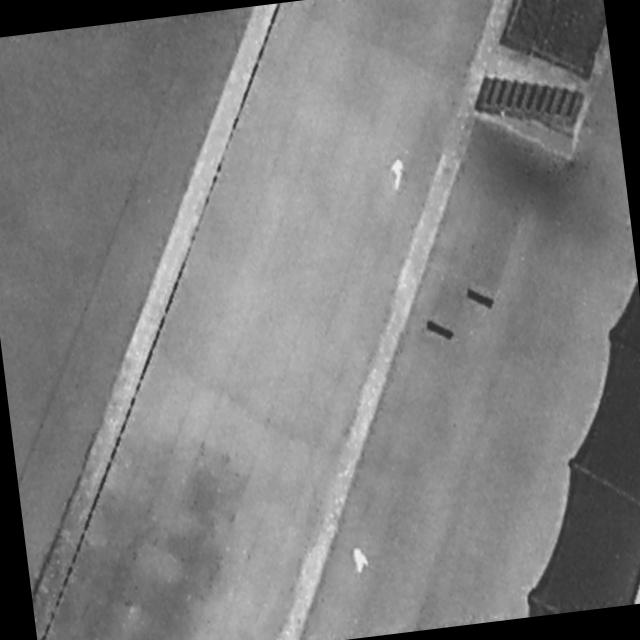person: (383, 152, 410, 195), (351, 544, 372, 578)
